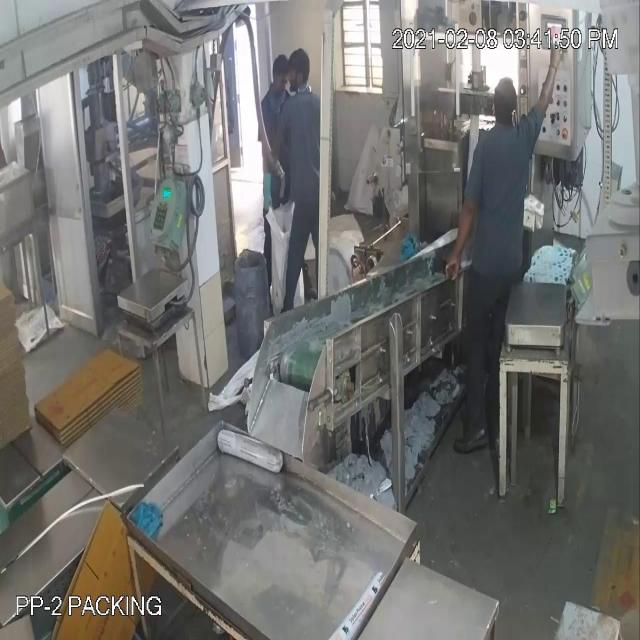No_Gloves: (28, 80, 552, 242)
